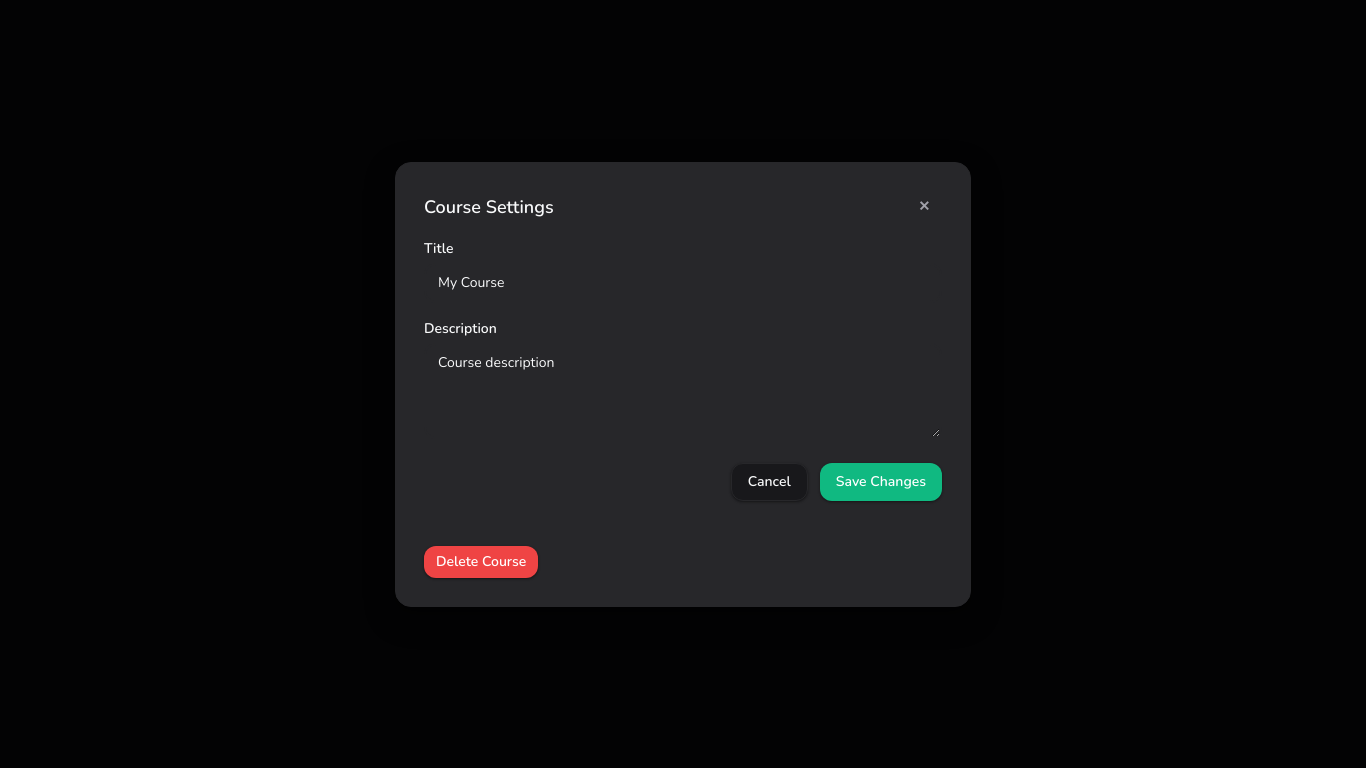
it: CourseSettingsModal › hides confirm dialog when cancel is clicked
What coordinates should you click on to do the following:
click the button "Delete Course"
I would click on:
 (481, 562)
Its box is [424, 546, 538, 578].
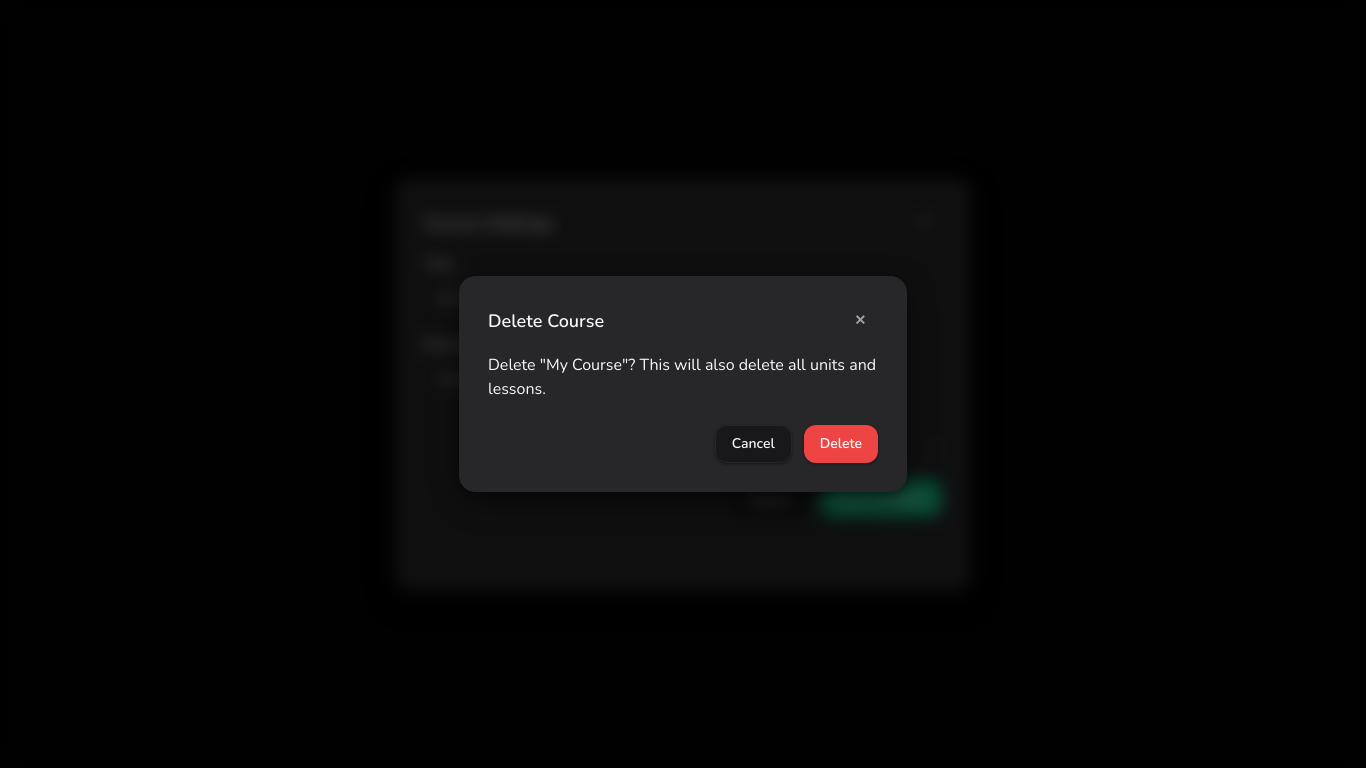
What coordinates should you click on to do the following:
click the button "Cancel"
I would click on:
 (753, 444)
Its box is [715, 425, 792, 463].
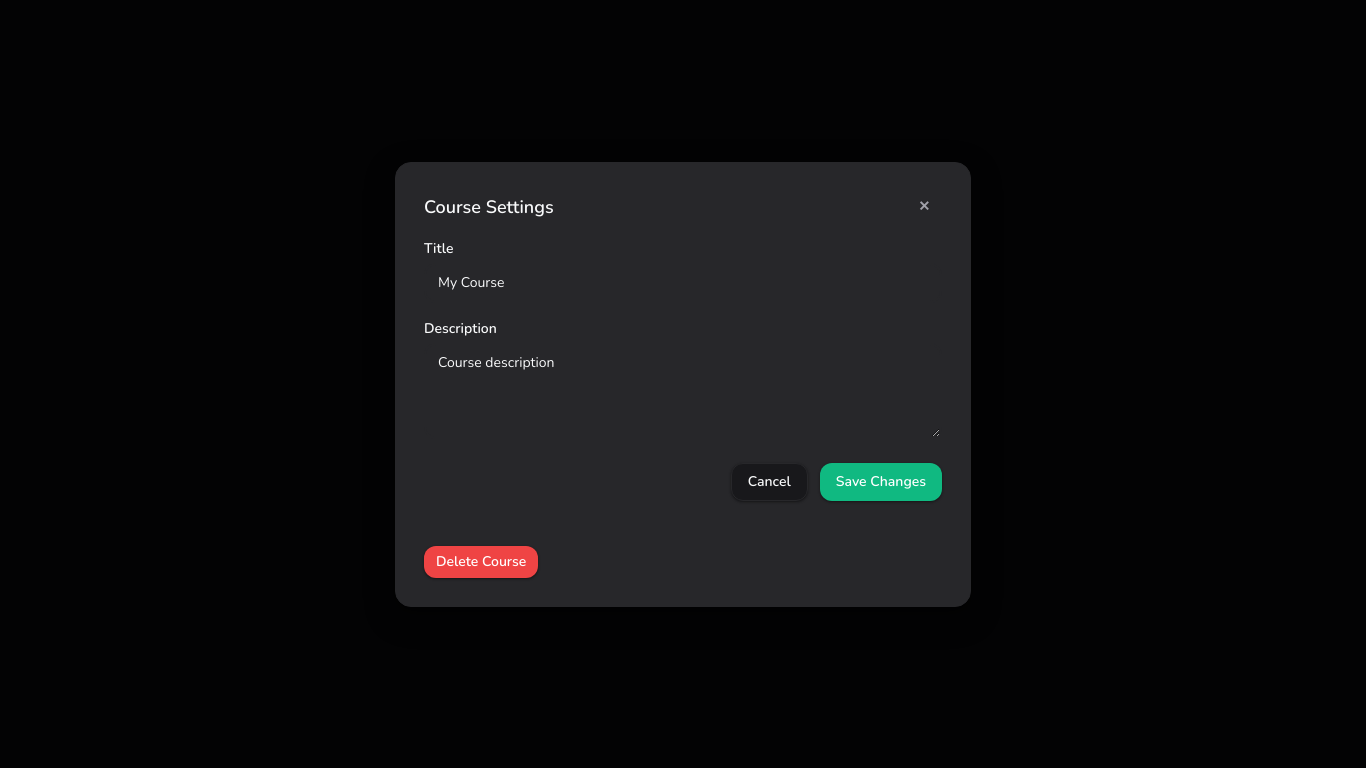
Expected: the text "Delete \"My Course\"" is gone
